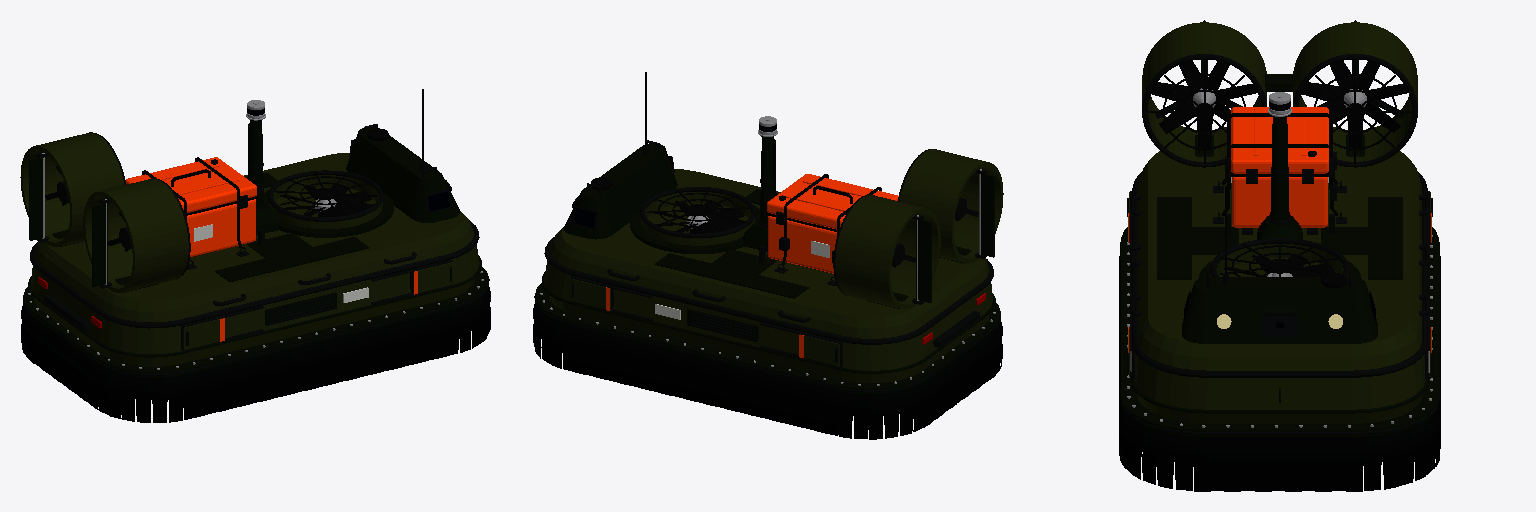
The robot description file, URDF, robot "hovercraft_v2":
<?xml version="1.0"?>
<!-- GENERATED by gen_description_v2.py from link_frames.json. Do not edit by hand. -->
<robot name="hovercraft_v2">
  <link name="base_link"><inertial><origin xyz="0.200418 0 -0.08" rpy="0 0 0"/><mass value="145.8"/><inertia ixx="19.44" ixy="0" ixz="0" iyy="66.2175" iyz="0" izz="81.7695"/></inertial><visual><geometry><mesh filename="package://tidal_vehicle_description/models/hovercraft_v2/meshes/hull.dae"/></geometry></visual><collision><origin xyz="0 0 0.01" rpy="0 0 0"/><geometry><box size="2.3 1.2 0.4"/></geometry></collision></link>
  <link name="skirt"><inertial><origin xyz="0 0 -0.03" rpy="0 0 0"/><mass value="18.0"/><inertia ixx="3.4614" ixy="0" ixz="0" iyy="9.4614" iyz="0" izz="12.75"/></inertial><visual><geometry><mesh filename="package://tidal_vehicle_description/models/hovercraft_v2/meshes/skirt.dae"/></geometry></visual><collision><origin xyz="0 0 -0.03" rpy="0 0 0"/><geometry><box size="2.5 1.5 0.24"/></geometry></collision></link>
  <link name="lift_fan"><inertial><origin xyz="0 0 0" rpy="0 0 0"/><mass value="12.0"/><inertia ixx="0.2368" ixy="0" ixz="0" iyy="0.2368" iyz="0" izz="0.4704"/></inertial><visual><geometry><mesh filename="package://tidal_vehicle_description/models/hovercraft_v2/meshes/lift_fan.dae"/></geometry></visual><collision><origin xyz="0 0 0" rpy="0 0 0"/><geometry><cylinder radius="0.28" length="0.04"/></geometry></collision></link>
  <link name="thrust_fan_left"><inertial><origin xyz="0 0 0" rpy="0 0 0"/><mass value="10.0"/><inertia ixx="0.3125" ixy="0" ixz="0" iyy="0.157583" iyz="0" izz="0.157583"/></inertial><visual><geometry><mesh filename="package://tidal_vehicle_description/models/hovercraft_v2/meshes/thrust_fan_left.dae"/></geometry></visual><collision><origin xyz="0 0 0" rpy="0 1.5708 0"/><geometry><cylinder radius="0.25" length="0.04"/></geometry></collision></link>
  <link name="thrust_fan_right"><inertial><origin xyz="0 0 0" rpy="0 0 0"/><mass value="10.0"/><inertia ixx="0.3125" ixy="0" ixz="0" iyy="0.157583" iyz="0" izz="0.157583"/></inertial><visual><geometry><mesh filename="package://tidal_vehicle_description/models/hovercraft_v2/meshes/thrust_fan_right.dae"/></geometry></visual><collision><origin xyz="0 0 0" rpy="0 1.5708 0"/><geometry><cylinder radius="0.25" length="0.04"/></geometry></collision></link>
  <link name="rudder_left"><inertial><origin xyz="-0.038 0 0" rpy="0 0 0"/><mass value="1.5"/><inertia ixx="0.031268" ixy="0" ixz="0" iyy="0.0325" iyz="0" izz="0.001268"/></inertial><visual><geometry><mesh filename="package://tidal_vehicle_description/models/hovercraft_v2/meshes/rudder_left.dae"/></geometry></visual><collision><origin xyz="-0.038 0 0" rpy="0 0 0"/><geometry><box size="0.1 0.012 0.5"/></geometry></collision></link>
  <link name="rudder_right"><inertial><origin xyz="-0.038 0 0" rpy="0 0 0"/><mass value="1.5"/><inertia ixx="0.031268" ixy="0" ixz="0" iyy="0.0325" iyz="0" izz="0.001268"/></inertial><visual><geometry><mesh filename="package://tidal_vehicle_description/models/hovercraft_v2/meshes/rudder_right.dae"/></geometry></visual><collision><origin xyz="-0.038 0 0" rpy="0 0 0"/><geometry><box size="0.1 0.012 0.5"/></geometry></collision></link>
  <link name="track_left"><inertial><origin xyz="0 0 0" rpy="0 0 0"/><mass value="34.0"/><inertia ixx="0.444267" ixy="0" ixz="0" iyy="5.77547" iyz="0" izz="5.77547"/></inertial><visual><geometry><mesh filename="package://tidal_vehicle_description/models/hovercraft_v2/meshes/track_left.dae"/></geometry></visual><collision><origin xyz="0 0 0" rpy="0 0 0"/><geometry><box size="1.4 0.28 0.28"/></geometry></collision><collision><origin xyz="0.7 0 0" rpy="1.5708 0 0"/><geometry><cylinder radius="0.14" length="0.28"/></geometry></collision><collision><origin xyz="-0.7 0 0" rpy="1.5708 0 0"/><geometry><cylinder radius="0.14" length="0.28"/></geometry></collision></link>
  <link name="track_right"><inertial><origin xyz="0 0 0" rpy="0 0 0"/><mass value="34.0"/><inertia ixx="0.444267" ixy="0" ixz="0" iyy="5.77547" iyz="0" izz="5.77547"/></inertial><visual><geometry><mesh filename="package://tidal_vehicle_description/models/hovercraft_v2/meshes/track_right.dae"/></geometry></visual><collision><origin xyz="0 0 0" rpy="0 0 0"/><geometry><box size="1.4 0.28 0.28"/></geometry></collision><collision><origin xyz="0.7 0 0" rpy="1.5708 0 0"/><geometry><cylinder radius="0.14" length="0.28"/></geometry></collision><collision><origin xyz="-0.7 0 0" rpy="1.5708 0 0"/><geometry><cylinder radius="0.14" length="0.28"/></geometry></collision></link>
  <link name="puff_bow_left"><inertial><origin xyz="0 0 0" rpy="0 0 0"/><mass value="0.5"/><inertia ixx="0.000818167" ixy="0" ixz="0" iyy="0.00363333" iyz="0" izz="0.00281817"/></inertial><visual><geometry><mesh filename="package://tidal_vehicle_description/models/hovercraft_v2/meshes/puff_bow_left.dae"/></geometry></visual><collision><origin xyz="0 0 0" rpy="0 0 0"/><geometry><box size="0.26 0.006 0.14"/></geometry></collision></link>
  <link name="puff_bow_right"><inertial><origin xyz="0 0 0" rpy="0 0 0"/><mass value="0.5"/><inertia ixx="0.000818167" ixy="0" ixz="0" iyy="0.00363333" iyz="0" izz="0.00281817"/></inertial><visual><geometry><mesh filename="package://tidal_vehicle_description/models/hovercraft_v2/meshes/puff_bow_right.dae"/></geometry></visual><collision><origin xyz="0 0 0" rpy="0 0 0"/><geometry><box size="0.26 0.006 0.14"/></geometry></collision></link>
  <link name="puff_stern_left"><inertial><origin xyz="0 0 0" rpy="0 0 0"/><mass value="0.5"/><inertia ixx="0.000818167" ixy="0" ixz="0" iyy="0.00363333" iyz="0" izz="0.00281817"/></inertial><visual><geometry><mesh filename="package://tidal_vehicle_description/models/hovercraft_v2/meshes/puff_stern_left.dae"/></geometry></visual><collision><origin xyz="0 0 0" rpy="0 0 0"/><geometry><box size="0.26 0.006 0.14"/></geometry></collision></link>
  <link name="puff_stern_right"><inertial><origin xyz="0 0 0" rpy="0 0 0"/><mass value="0.5"/><inertia ixx="0.000818167" ixy="0" ixz="0" iyy="0.00363333" iyz="0" izz="0.00281817"/></inertial><visual><geometry><mesh filename="package://tidal_vehicle_description/models/hovercraft_v2/meshes/puff_stern_right.dae"/></geometry></visual><collision><origin xyz="0 0 0" rpy="0 0 0"/><geometry><box size="0.26 0.006 0.14"/></geometry></collision></link>
  <link name="payload_box"><inertial><origin xyz="0 0 0.175" rpy="0 0 0"/><mass value="30.0"/><inertia ixx="0.8125" ixy="0" ixz="0" iyy="1.20625" iyz="0" izz="1.40625"/></inertial><visual><geometry><mesh filename="package://tidal_vehicle_description/models/hovercraft_v2/meshes/payload_box.dae"/></geometry></visual><collision><origin xyz="0 0 0.175" rpy="0 0 0"/><geometry><box size="0.6 0.45 0.35"/></geometry></collision></link>
  <link name="lidar_link"><inertial><origin xyz="0 0 0" rpy="0 0 0"/><mass value="1.0"/><inertia ixx="0.00109147" ixy="0" ixz="0" iyy="0.00109147" iyz="0" izz="0.00132612"/></inertial><visual><geometry><mesh filename="package://tidal_vehicle_description/models/hovercraft_v2/meshes/lidar.dae"/></geometry></visual><collision><origin xyz="0 0 0" rpy="0 0 0"/><geometry><cylinder radius="0.0515" length="0.0717"/></geometry></collision></link>
  <link name="camera_link"><inertial><origin xyz="-0.055 0 0" rpy="0 0 0"/><mass value="0.2"/><inertia ixx="0.000295417" ixy="0" ixz="0" iyy="0.0001875" iyz="0" izz="0.000295417"/></inertial><visual><geometry><mesh filename="package://tidal_vehicle_description/models/hovercraft_v2/meshes/camera.dae"/></geometry></visual><collision><origin xyz="-0.055 0 0" rpy="0 0 0"/><geometry><box size="0.075 0.11 0.075"/></geometry></collision></link>
  <link name="imu_link"/>
  <joint name="imu_joint" type="fixed"><parent link="base_link"/><child link="imu_link"/><origin xyz="0 0 0" rpy="0 0 0"/></joint>
  <joint name="skirt_joint" type="fixed"><parent link="base_link"/><child link="skirt"/><origin xyz="0 0 -0.27" rpy="0 0 0"/></joint>
  <joint name="lift_fan_joint" type="continuous"><parent link="base_link"/><child link="lift_fan"/><origin xyz="0.45 0 0.24" rpy="0 0 0"/><axis xyz="0 0 1"/></joint>
  <joint name="thrust_fan_left_joint" type="continuous"><parent link="base_link"/><child link="thrust_fan_left"/><origin xyz="-0.93 0.35 0.53" rpy="0 0 0"/><axis xyz="1 0 0"/></joint>
  <joint name="thrust_fan_right_joint" type="continuous"><parent link="base_link"/><child link="thrust_fan_right"/><origin xyz="-0.93 -0.35 0.53" rpy="0 0 0"/><axis xyz="1 0 0"/></joint>
  <joint name="rudder_left_joint" type="revolute"><parent link="base_link"/><child link="rudder_left"/><origin xyz="-1.17 0.35 0.53" rpy="0 0 0"/><axis xyz="0 0 1"/><limit lower="-0.5236" upper="0.5236" effort="100" velocity="2"/></joint>
  <joint name="rudder_right_joint" type="revolute"><parent link="base_link"/><child link="rudder_right"/><origin xyz="-1.17 -0.35 0.53" rpy="0 0 0"/><axis xyz="0 0 1"/><limit lower="-0.5236" upper="0.5236" effort="100" velocity="2"/></joint>
  <joint name="track_left_joint" type="prismatic"><parent link="base_link"/><child link="track_left"/><origin xyz="0 0.42 -0.36" rpy="0 0 0"/><axis xyz="0 0 1"/><limit lower="-0.02" upper="0.27" effort="6000" velocity="0.2"/></joint>
  <joint name="track_right_joint" type="prismatic"><parent link="base_link"/><child link="track_right"/><origin xyz="0 -0.42 -0.36" rpy="0 0 0"/><axis xyz="0 0 1"/><limit lower="-0.02" upper="0.27" effort="6000" velocity="0.2"/></joint>
  <joint name="puff_bow_left_joint" type="prismatic"><parent link="base_link"/><child link="puff_bow_left"/><origin xyz="0.74 0.7 0.01" rpy="0 0 0"/><axis xyz="-1 0 0"/><limit lower="-0.02" upper="0.28" effort="20" velocity="1.0"/></joint>
  <joint name="puff_bow_right_joint" type="prismatic"><parent link="base_link"/><child link="puff_bow_right"/><origin xyz="0.74 -0.7 0.01" rpy="0 0 0"/><axis xyz="-1 0 0"/><limit lower="-0.02" upper="0.28" effort="20" velocity="1.0"/></joint>
  <joint name="puff_stern_left_joint" type="prismatic"><parent link="base_link"/><child link="puff_stern_left"/><origin xyz="-0.74 0.7 0.01" rpy="0 0 0"/><axis xyz="1 0 0"/><limit lower="-0.02" upper="0.28" effort="20" velocity="1.0"/></joint>
  <joint name="puff_stern_right_joint" type="prismatic"><parent link="base_link"/><child link="puff_stern_right"/><origin xyz="-0.74 -0.7 0.01" rpy="0 0 0"/><axis xyz="1 0 0"/><limit lower="-0.02" upper="0.28" effort="20" velocity="1.0"/></joint>
  <joint name="payload_box_joint" type="fixed"><parent link="base_link"/><child link="payload_box"/><origin xyz="-0.42 0 0.24" rpy="0 0 0"/></joint>
  <joint name="lidar_joint" type="fixed"><parent link="base_link"/><child link="lidar_link"/><origin xyz="0 0 0.94" rpy="0 0 0"/></joint>
  <joint name="camera_joint" type="fixed"><parent link="base_link"/><child link="camera_link"/><origin xyz="1.07 0 0.3" rpy="0 0 0"/></joint>
</robot>

--- Facts derived from the render (not from the file) ---
The picture shows the robot from 3 angles, left to right: view 1: azimuth 30°, elevation 25°; view 2: azimuth 150°, elevation 25°; view 3: azimuth 270°, elevation 25°; orthographic projection.
Robot: hovercraft_v2 — 17 links, 16 joints (2 revolute, 3 continuous, 6 prismatic, 5 fixed); root link base_link; default pose: every joint at zero.
Visible links, largest first — view 1: base_link, skirt, payload_box, rudder_right, rudder_left, lift_fan, puff_bow_right, puff_stern_right; view 2: base_link, skirt, payload_box, rudder_left, rudder_right, lift_fan, puff_bow_left, puff_stern_left; view 3: base_link, skirt, payload_box, thrust_fan_right, thrust_fan_left, lift_fan.
Boxes of the visible links, x1,y1,x2,y2 form: base_link: (20, 89, 489, 377); skirt: (21, 286, 490, 422); payload_box: (126, 157, 257, 256); rudder_right: (92, 199, 107, 286); rudder_left: (29, 153, 44, 240); lift_fan: (280, 183, 373, 216); puff_bow_right: (413, 262, 453, 294); puff_stern_right: (184, 318, 224, 349); base_link: (534, 72, 1003, 393); skirt: (533, 303, 1002, 439); payload_box: (766, 174, 898, 273); rudder_left: (916, 215, 931, 302); rudder_right: (979, 169, 994, 257); lift_fan: (654, 201, 745, 233); puff_bow_left: (570, 279, 610, 310); puff_stern_left: (799, 334, 839, 366); base_link: (1120, 22, 1439, 436); skirt: (1119, 256, 1440, 491); payload_box: (1227, 107, 1332, 227); thrust_fan_right: (1151, 61, 1257, 147); thrust_fan_left: (1302, 61, 1407, 147); lift_fan: (1224, 253, 1335, 276).
Bounding box of the posed robot: 2.51 × 1.5 × 1.48 m (x, y, z).
16 mesh visuals loaded from 16 distinct referenced files (16 Collada DAE).
